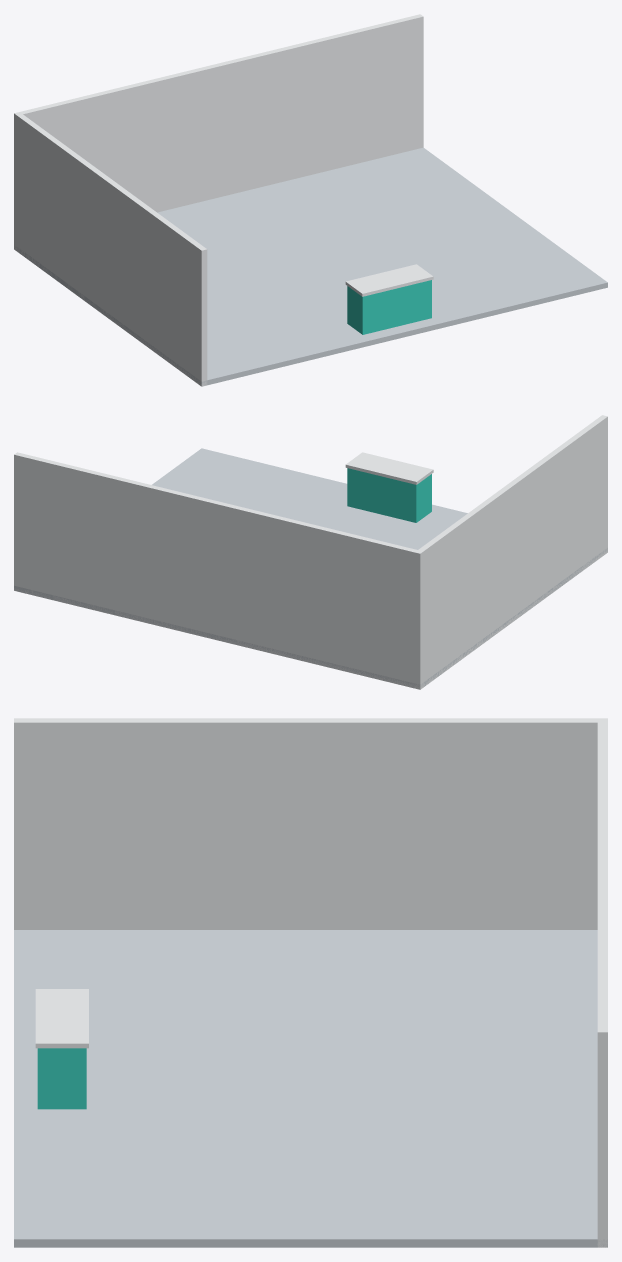
The picture shows the model from 3 angles, top to bottom: view 1: azimuth 30°, elevation 25°; view 2: azimuth 150°, elevation 25°; view 3: azimuth 270°, elevation 25°; orthographic projection. The views are drawn at different scales.
Visible parts, largest first — view 1: Exhibition Booth Concept; view 2: Exhibition Booth Concept; view 3: Exhibition Booth Concept.
Part boxes in pixels (left/top/right/bottom): Exhibition Booth Concept: left=14, top=14, right=607, bottom=386; Exhibition Booth Concept: left=14, top=415, right=607, bottom=689; Exhibition Booth Concept: left=14, top=718, right=607, bottom=1247.
Size of the model in its own units: 10 by 3.2 by 8.
